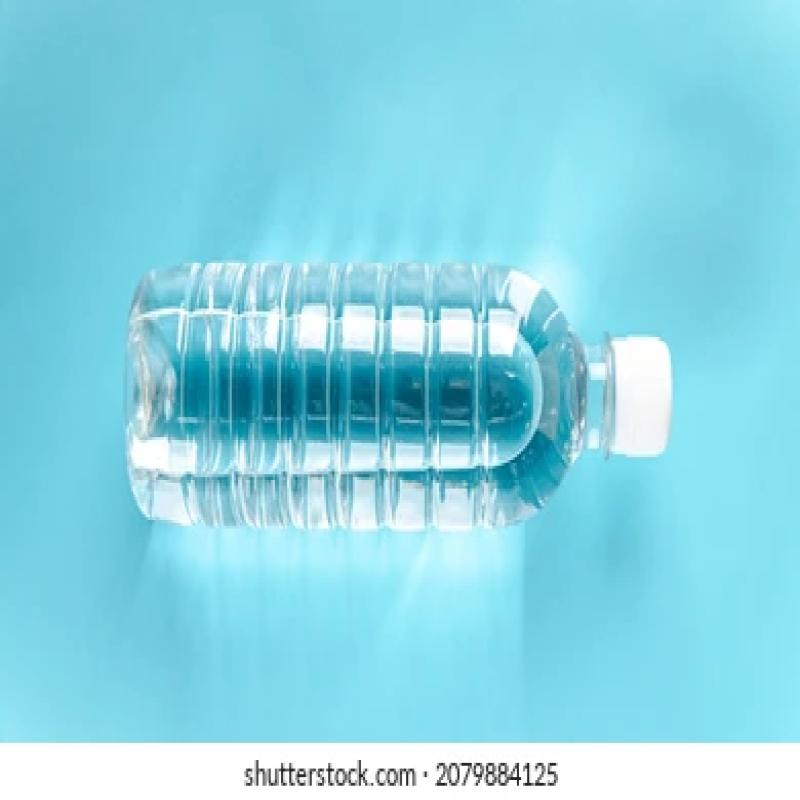botella: (122, 251, 674, 525)
